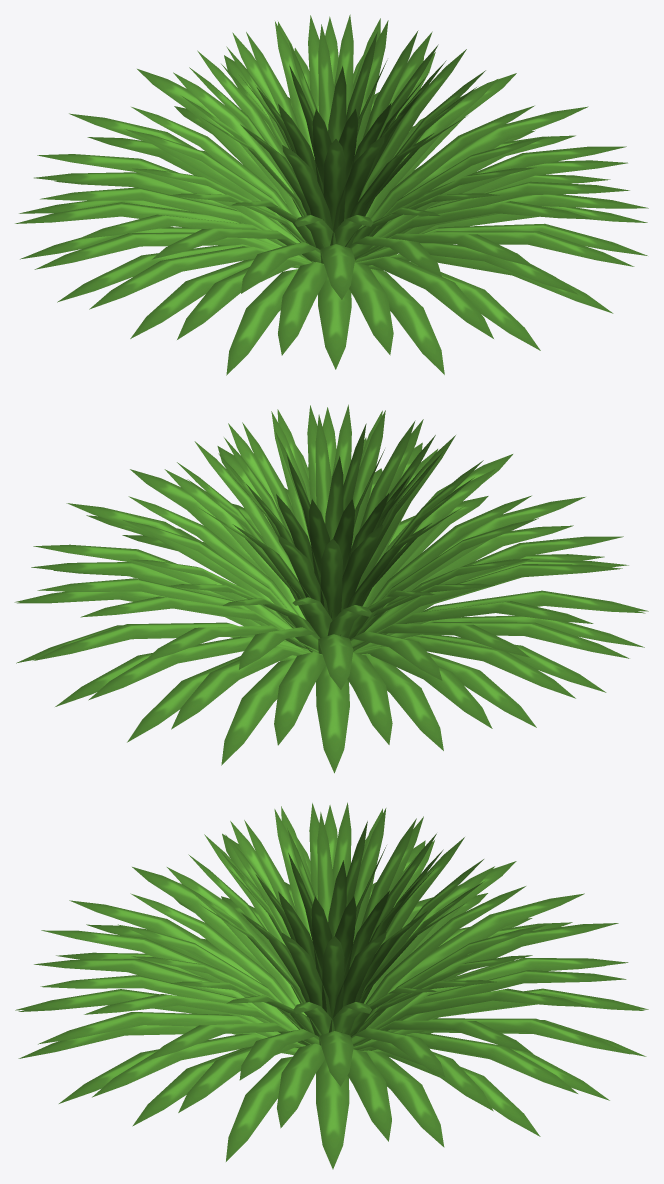
Rendered from arbusto3.fbx.
3 renders of one model, top to bottom at view 1: azimuth 30°, elevation 25°; view 2: azimuth 150°, elevation 25°; view 3: azimuth 270°, elevation 25°, orthographic.
Visible parts, largest first — view 1: pPlane36, pPlane3, pPlane41, pPlane24, pPlane20, pPlane40, pPlane8, pPlane49, pPlane7, pPlane67, pPlane12, pPlane50 (+70 smaller); view 2: pPlane38, pPlane7, pPlane35, pPlane27, pPlane31, pPlane47, pPlane1, pPlane10, pPlane18, pPlane19, pPlane37, pPlane36 (+67 smaller); view 3: pPlane42, pPlane29, pPlane4, pPlane53, pPlane18, pPlane43, pPlane30, pPlane9, pPlane21, pPlane12, pPlane61, pPlane72 (+65 smaller).
Boxes of the visible parts, box(x1,y1,x2,y2) form: pPlane36: box(89, 246, 311, 309); pPlane3: box(355, 256, 493, 338); pPlane41: box(37, 154, 299, 243); pPlane24: box(226, 269, 297, 375); pPlane20: box(278, 262, 327, 355); pPlane40: box(40, 187, 308, 260); pPlane8: box(370, 269, 444, 374); pPlane49: box(373, 146, 626, 237); pPlane7: box(34, 232, 306, 269); pPlane67: box(370, 105, 534, 221); pPlane12: box(349, 262, 393, 355); pPlane50: box(364, 181, 629, 256); pPlane38: box(368, 564, 622, 632); pPlane7: box(353, 636, 575, 698); pPlane35: box(221, 659, 294, 765); pPlane27: box(316, 665, 349, 773); pPlane31: box(274, 652, 325, 745); pPlane47: box(33, 544, 292, 629); pPlane1: box(171, 646, 309, 729); pPlane10: box(88, 636, 310, 700); pPlane18: box(33, 622, 303, 660); pPlane19: box(361, 653, 443, 750); pPlane37: box(365, 536, 623, 631); pPlane36: box(356, 622, 629, 658); pPlane42: box(375, 893, 584, 1009); pPlane29: box(38, 1012, 299, 1044); pPlane4: box(316, 1059, 349, 1169); pPlane53: box(41, 930, 298, 1030); pPlane18: box(358, 1032, 577, 1093); pPlane43: box(366, 923, 618, 1028); pPlane30: box(362, 1050, 444, 1147); pPlane9: box(226, 1056, 292, 1161); pPlane21: box(92, 1033, 298, 1097); pPlane12: box(34, 959, 266, 1014); pPlane61: box(366, 886, 525, 1016); pPlane72: box(130, 893, 295, 1008).
Bounding box in the file's own units: 8.28 × 3.21 × 8.26.
